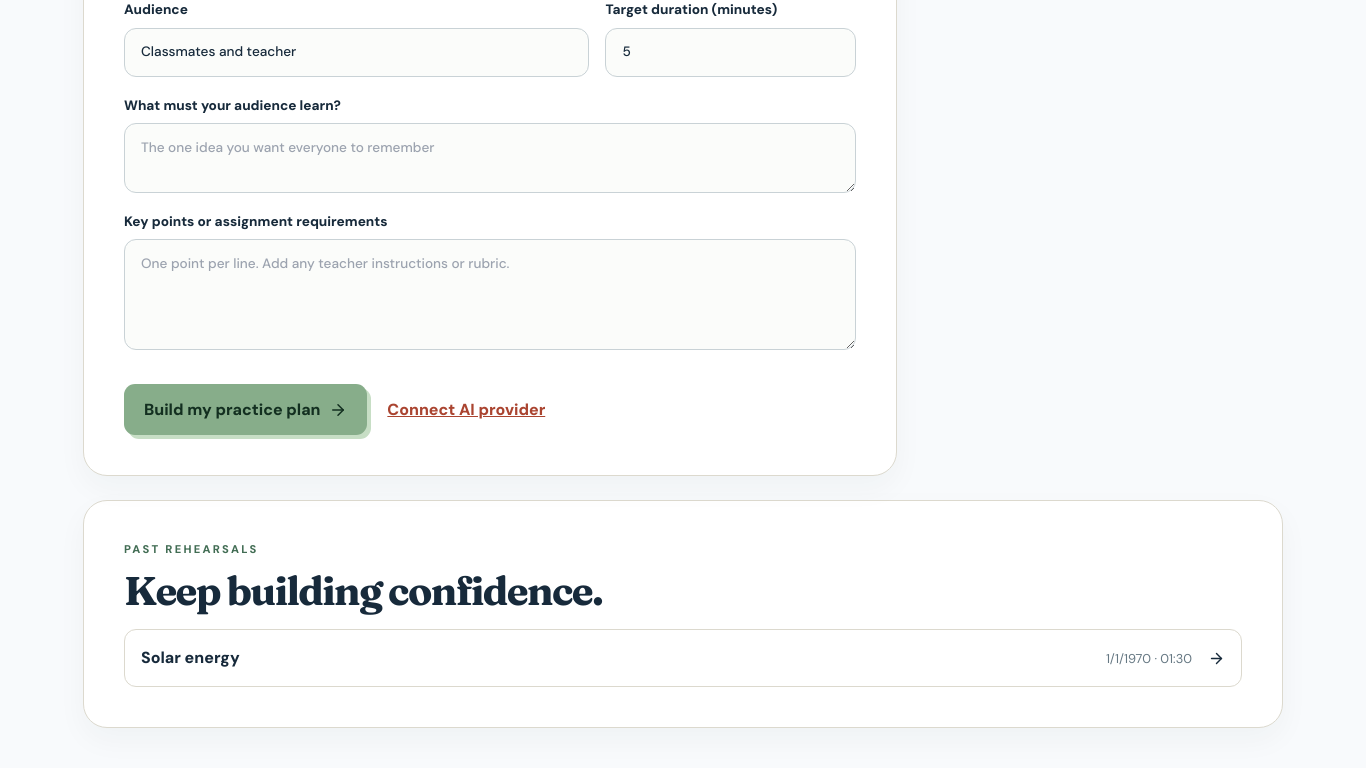
Scenario: reopens a past rehearsal and can start another round
The width and height of the screenshot is (1366, 768).
(page scrolled)
Click the button "Solar energy 1/1/1970 · 01:30".
click(190, 658)  # box [124,630,1242,688]
(page scrolled)
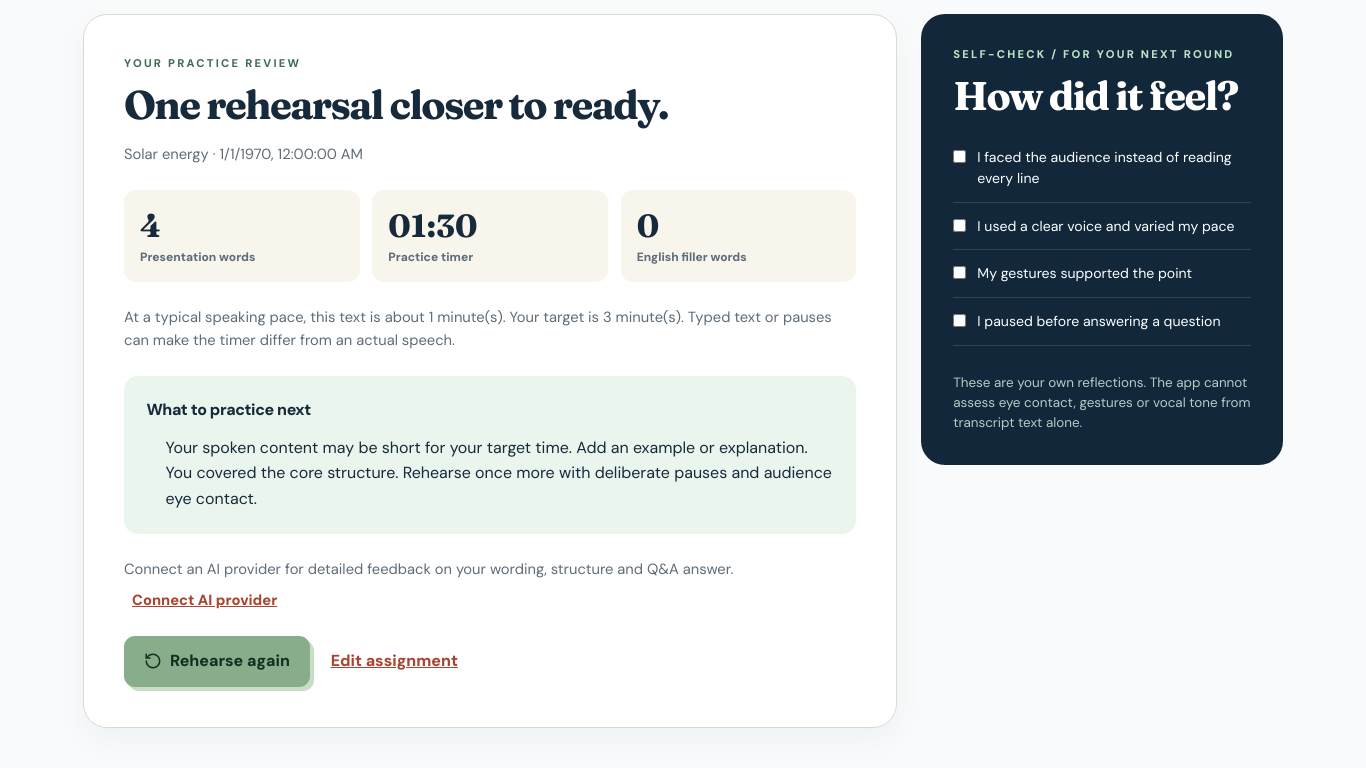
Result: the heading "One rehearsal closer to ready." is shown at [124,80,668,129]
Click the button "Rehearse again".
click(217, 661)  # box [124,636,310,687]
(page scrolled)
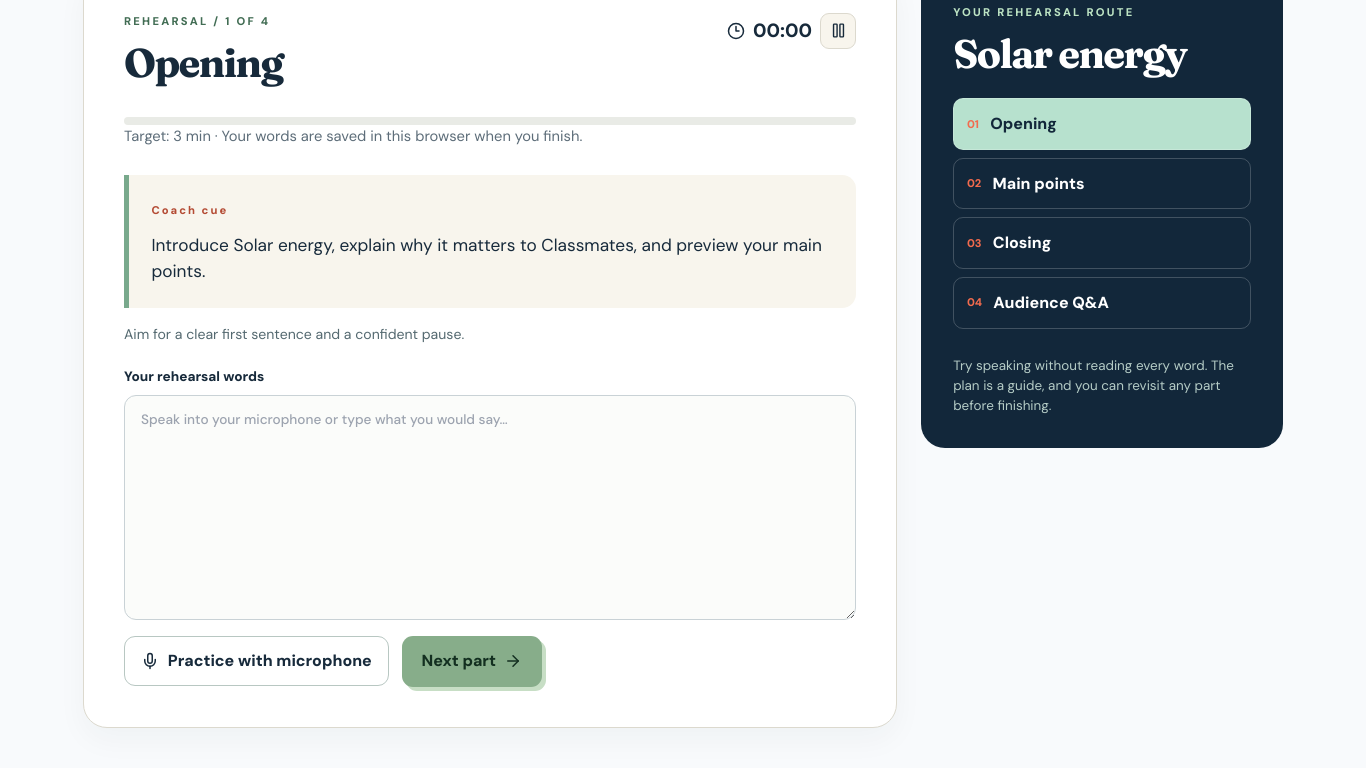
Result: the text box labelled "Your rehearsal words" is shown at [124,395,856,620]
